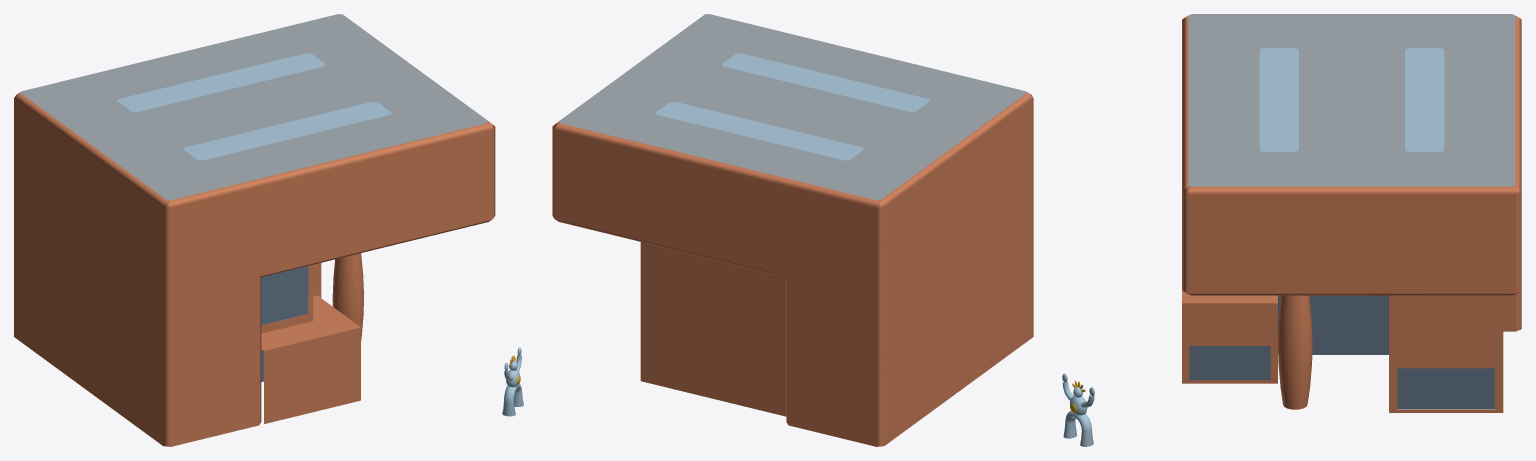
Rendered from bechtler-museum.glb.
3 renders of one model, left to right at view 1: azimuth 30°, elevation 25°; view 2: azimuth 150°, elevation 25°; view 3: azimuth 270°, elevation 25°, orthographic. The views are drawn at different scales.
Visible parts, largest first — view 1: Bechtler Museum of Modern Art; view 2: Bechtler Museum of Modern Art; view 3: Bechtler Museum of Modern Art.
Part boxes in pixels (x1,y1,x2,y2): Bechtler Museum of Modern Art: (14,14,523,446); Bechtler Museum of Modern Art: (552,14,1033,446); Bechtler Museum of Modern Art: (1062,14,1521,446).
Bounding box in the file's own units: 34.2 × 24.03 × 37.33.
